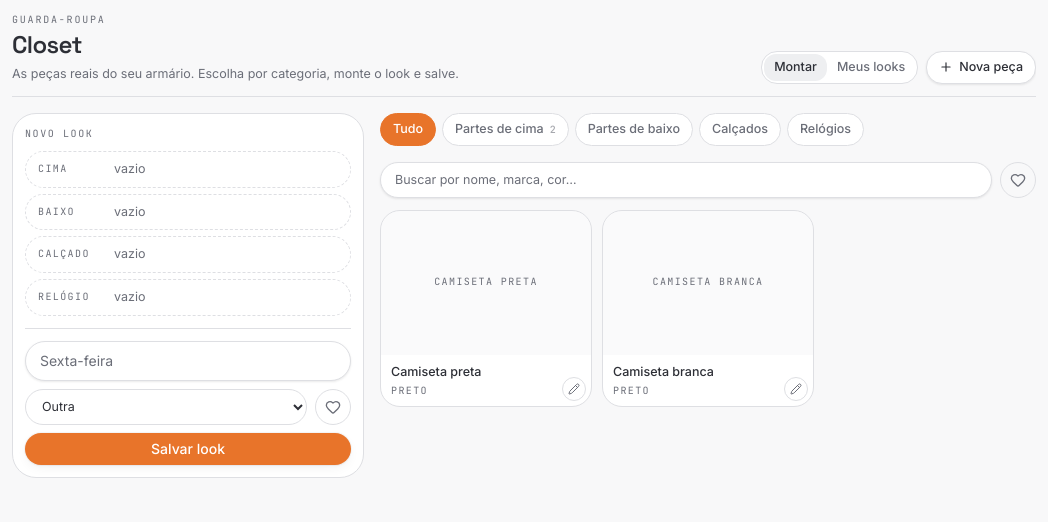
Test: building a look › replaces the piece when another of the same kind is clicked
Click the button "Camiseta preta Camiseta preta preto" at (486,308), box [380,210,592,407]
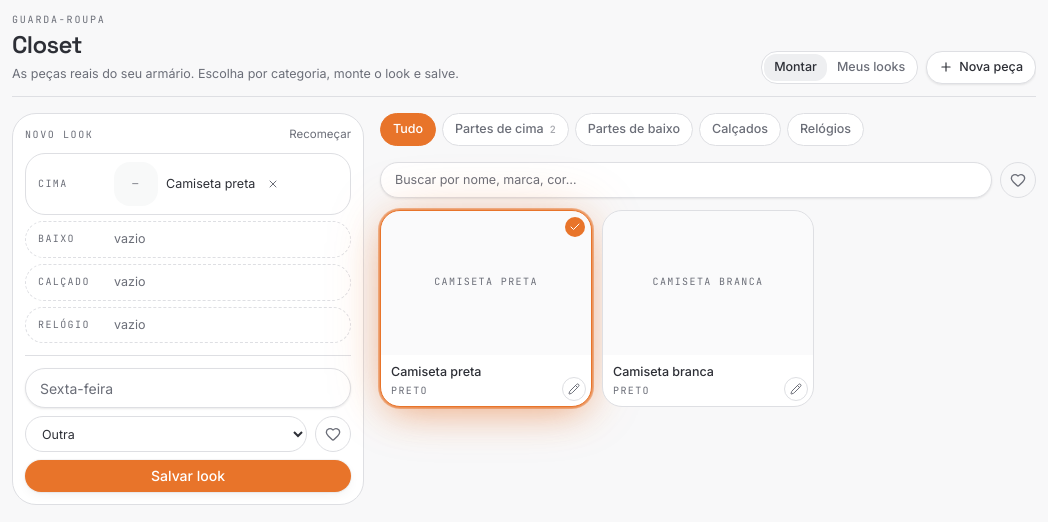
Click the button "Camiseta branca Camiseta branca preto" at (708,308), box [602,210,814,407]
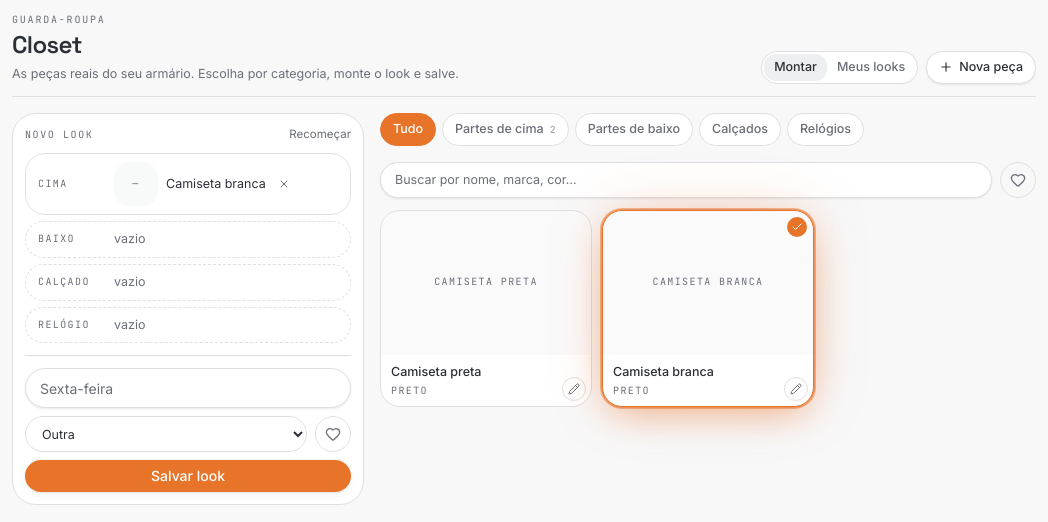
expect the text "Camiseta branca" below "Novo look" is shown: met, box [166,176,266,191]
